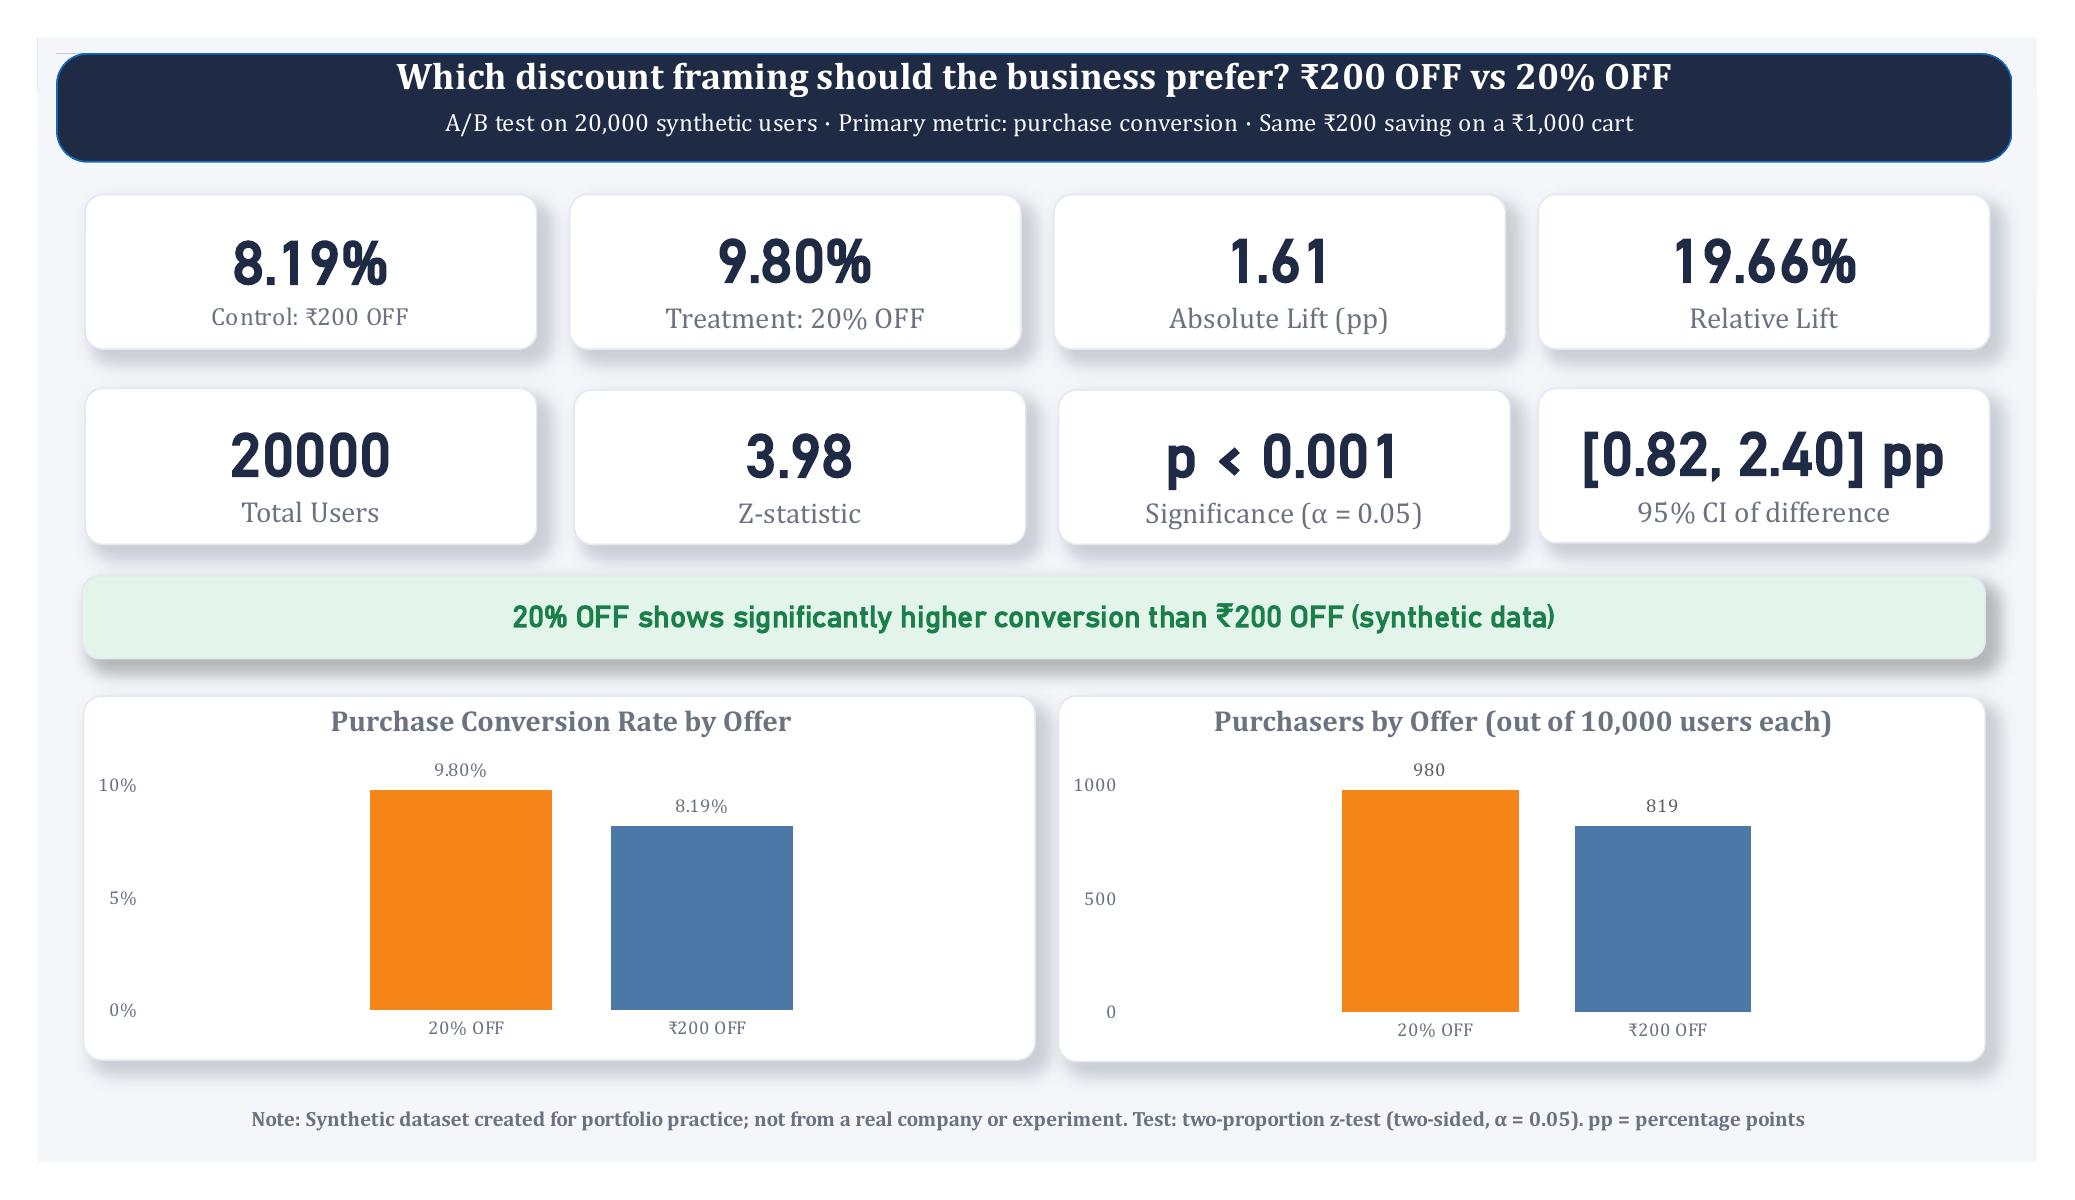

The dashboard page shown, as its layout file describes it:
{"tool":"powerbi","page":{"name":"Experiment Overview","canvas":[1280,720],"ordinal":1},"visuals":[{"type":"shape","box":[12.1,9.7,1252.3,70],"z":0},{"type":"textbox","box":[255.8,39.8,833.7,38.6],"z":1000},{"type":"card","fields":{"Values":["ecommerce_discount_ab_test.Conv A"]},"box":[30,100.1,290,100],"z":2000},{"type":"card","fields":{"Values":["ecommerce_discount_ab_test.Conv B"]},"box":[340,100.1,290,100],"z":3000},{"type":"card","fields":{"Values":["ecommerce_discount_ab_test.Absolute Lift (pp)"]},"box":[650,100.1,290,100],"z":4000},{"type":"card","fields":{"Values":["ecommerce_discount_ab_test.Relative Lift"]},"box":[960,100.1,290,100],"z":5000},{"type":"card","fields":{"Values":["ecommerce_discount_ab_test.Total Users"]},"box":[30.2,224.4,289.5,100.1],"z":6000},{"type":"card","fields":{"Values":["ecommerce_discount_ab_test.Z Statistic"]},"box":[343.2,225,290,100],"z":7000},{"type":"card","fields":{"Values":["ecommerce_discount_ab_test.P-value Text"]},"box":[653.2,225,290,100],"z":8000},{"type":"card","fields":{"Values":["ecommerce_discount_ab_test.CI Text"]},"box":[960.3,224.4,290,100],"z":9000},{"type":"card","fields":{"Values":["ecommerce_discount_ab_test.Verdict"]},"box":[27.7,343.8,1219.7,54.3],"z":10000},{"type":"clusteredColumnChart","title":"Purchase Conversion Rate by Offer","fields":{"Category":["ecommerce_discount_ab_test.Offer"],"Y":["ecommerce_discount_ab_test.Conversion_Rate"]},"box":[29,421,610.5,234],"z":11000},{"type":"clusteredColumnChart","title":"Purchasers by Offer (out of 10,000 users each)","fields":{"Category":["ecommerce_discount_ab_test.Offer"],"Y":["ecommerce_discount_ab_test.Purchases"]},"box":[652.7,421,594.8,235.3],"z":12000},{"type":"shape","box":[89.3,684.1,1089.4,24.1],"z":13000}]}

Visuals, with their boxes on the page's 1280x720 design canvas (x1, y1, x2, y2). These are canvas units, not pixel positions in the 2075x1200 screenshot, which may show the page scaled, cropped or inside an application window:
shape: {"left": 12, "top": 10, "right": 1264, "bottom": 80}
textbox: {"left": 256, "top": 40, "right": 1090, "bottom": 78}
card - ecommerce_discount_ab_test.Conv A: {"left": 30, "top": 100, "right": 320, "bottom": 200}
card - ecommerce_discount_ab_test.Conv B: {"left": 340, "top": 100, "right": 630, "bottom": 200}
card - ecommerce_discount_ab_test.Absolute Lift (pp): {"left": 650, "top": 100, "right": 940, "bottom": 200}
card - ecommerce_discount_ab_test.Relative Lift: {"left": 960, "top": 100, "right": 1250, "bottom": 200}
card - ecommerce_discount_ab_test.Total Users: {"left": 30, "top": 224, "right": 320, "bottom": 324}
card - ecommerce_discount_ab_test.Z Statistic: {"left": 343, "top": 225, "right": 633, "bottom": 325}
card - ecommerce_discount_ab_test.P-value Text: {"left": 653, "top": 225, "right": 943, "bottom": 325}
card - ecommerce_discount_ab_test.CI Text: {"left": 960, "top": 224, "right": 1250, "bottom": 324}
card - ecommerce_discount_ab_test.Verdict: {"left": 28, "top": 344, "right": 1247, "bottom": 398}
"Purchase Conversion Rate by Offer" clusteredColumnChart: {"left": 29, "top": 421, "right": 640, "bottom": 655}
"Purchasers by Offer (out of 10,000 users each)" clusteredColumnChart: {"left": 653, "top": 421, "right": 1248, "bottom": 656}
shape: {"left": 89, "top": 684, "right": 1179, "bottom": 708}
